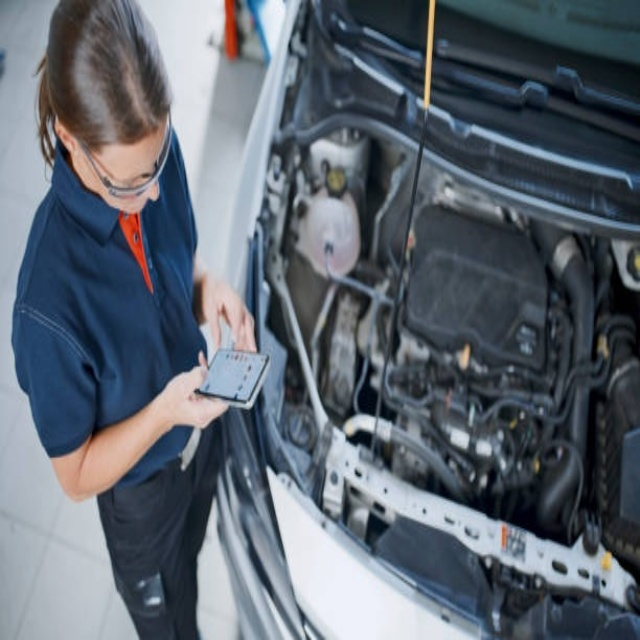Gafas: (72, 112, 173, 199)
Sin_guantes: (157, 354, 230, 435), (203, 274, 257, 355)
